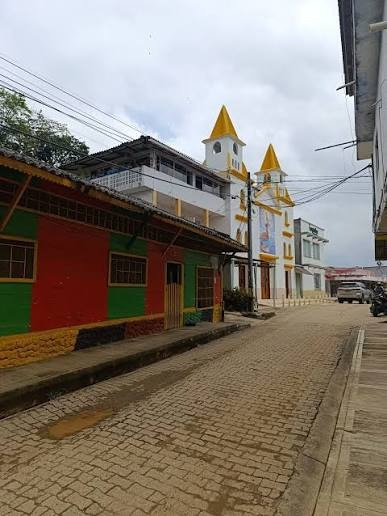car: (332, 277, 384, 310)
